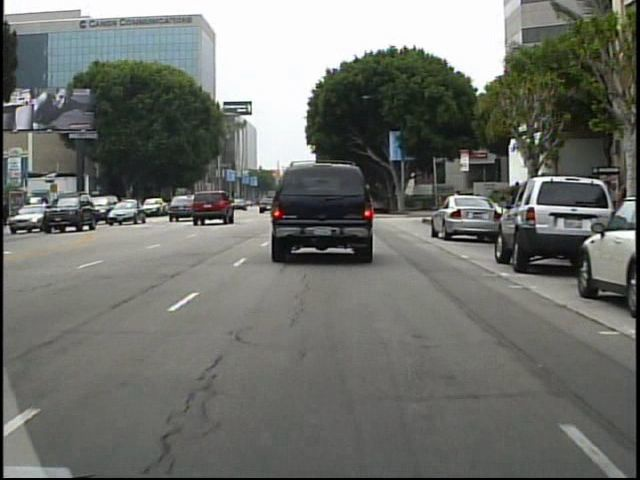person: (505, 178, 527, 228), (447, 187, 466, 227), (1, 199, 17, 231)
